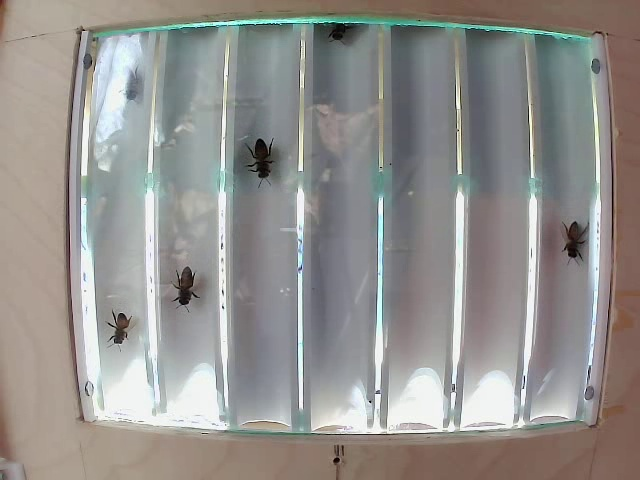bee: (89, 303, 141, 357), (246, 126, 281, 192), (164, 254, 203, 303), (556, 213, 585, 263)
